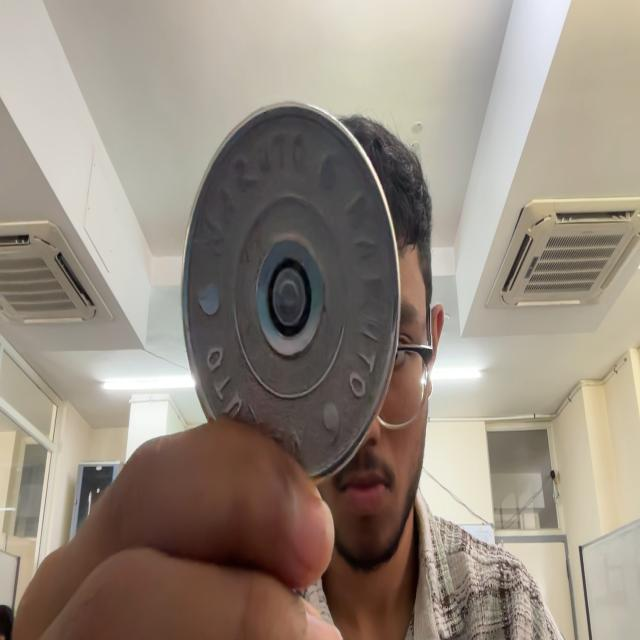dangerous: (181, 103, 400, 479)
